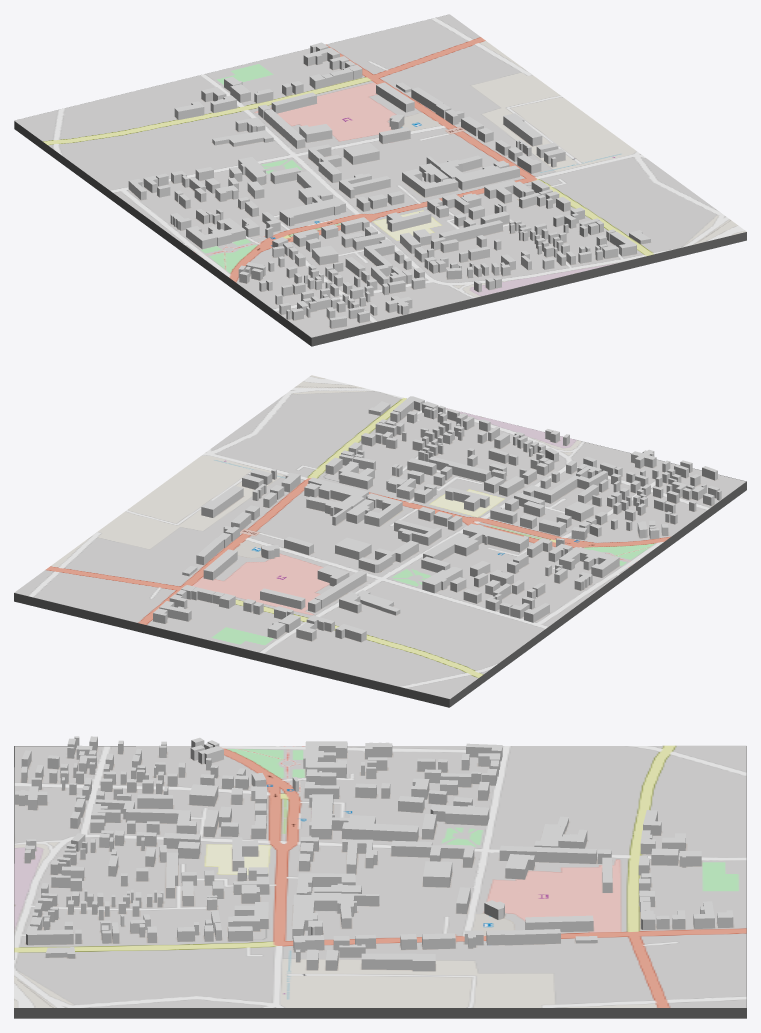
The model's file is lowermap.glb.
3 renders of one model, top to bottom at view 1: azimuth 30°, elevation 25°; view 2: azimuth 150°, elevation 25°; view 3: azimuth 270°, elevation 25°, orthographic. The views are drawn at different scales.
Visible parts, largest first — view 1: EXPORT_OSM_MAPNIK_WM, Areas:building, Cube, 1korp, 2korp, 3korp; view 2: EXPORT_OSM_MAPNIK_WM, Areas:building, Cube, 1korp, 2korp, 3korp; view 3: EXPORT_OSM_MAPNIK_WM, Areas:building, Cube, 1korp, 3korp, 2korp.
Boxes of the visible parts, left/top/right/bottom form: EXPORT_OSM_MAPNIK_WM: left=14, top=14, right=746, bottom=337; Areas:building: left=128, top=42, right=636, bottom=328; Cube: left=14, top=121, right=746, bottom=346; 1korp: left=186, top=217, right=259, bottom=248; 2korp: left=402, top=163, right=458, bottom=197; 3korp: left=263, top=109, right=305, bottom=148; EXPORT_OSM_MAPNIK_WM: left=14, top=375, right=745, bottom=698; Areas:building: left=153, top=396, right=721, bottom=642; Cube: left=14, top=422, right=746, bottom=707; 1korp: left=548, top=543, right=619, bottom=577; 2korp: left=346, top=493, right=402, bottom=526; 3korp: left=314, top=571, right=366, bottom=608; EXPORT_OSM_MAPNIK_WM: left=14, top=745, right=746, bottom=1007; Areas:building: left=15, top=736, right=733, bottom=971; Cube: left=14, top=746, right=746, bottom=1018; 1korp: left=303, top=741, right=347, bottom=785; 3korp: left=499, top=845, right=596, bottom=863; 2korp: left=296, top=873, right=361, bottom=894.
Bounding box in the file's own units: 1095 × 40.85 × 1293.
Materials: 8 (1 with a texture image).
